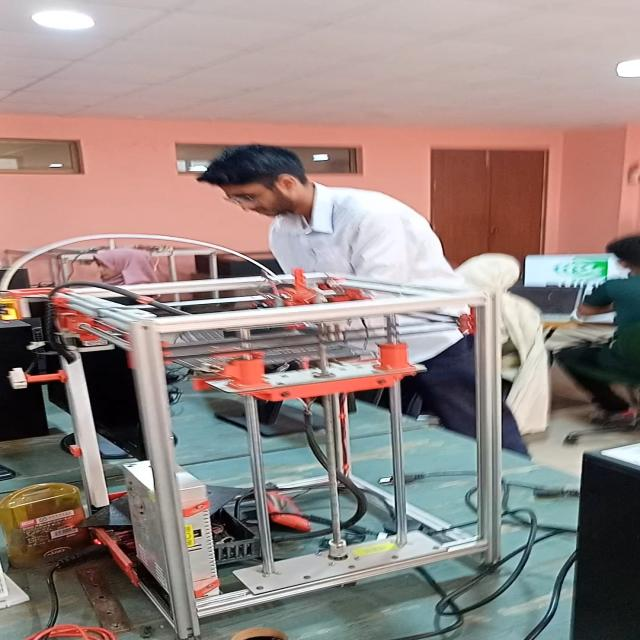dress: (194, 182, 532, 462)
glasses: (216, 192, 264, 209)
